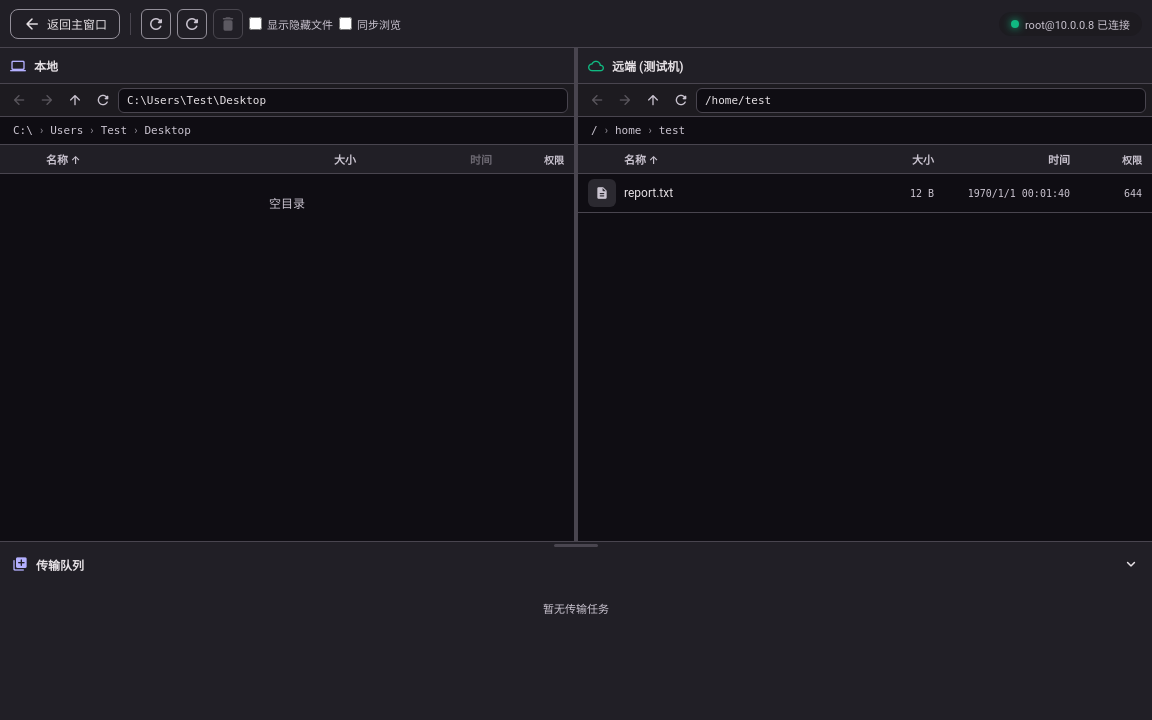
Test: SFTP 删除确认 › 确认前不调用删除，确认后删除完整远端路径
Click the text "report.txt" at {"x": 649, "y": 193}, box x1=624 y1=186 x2=673 y2=200
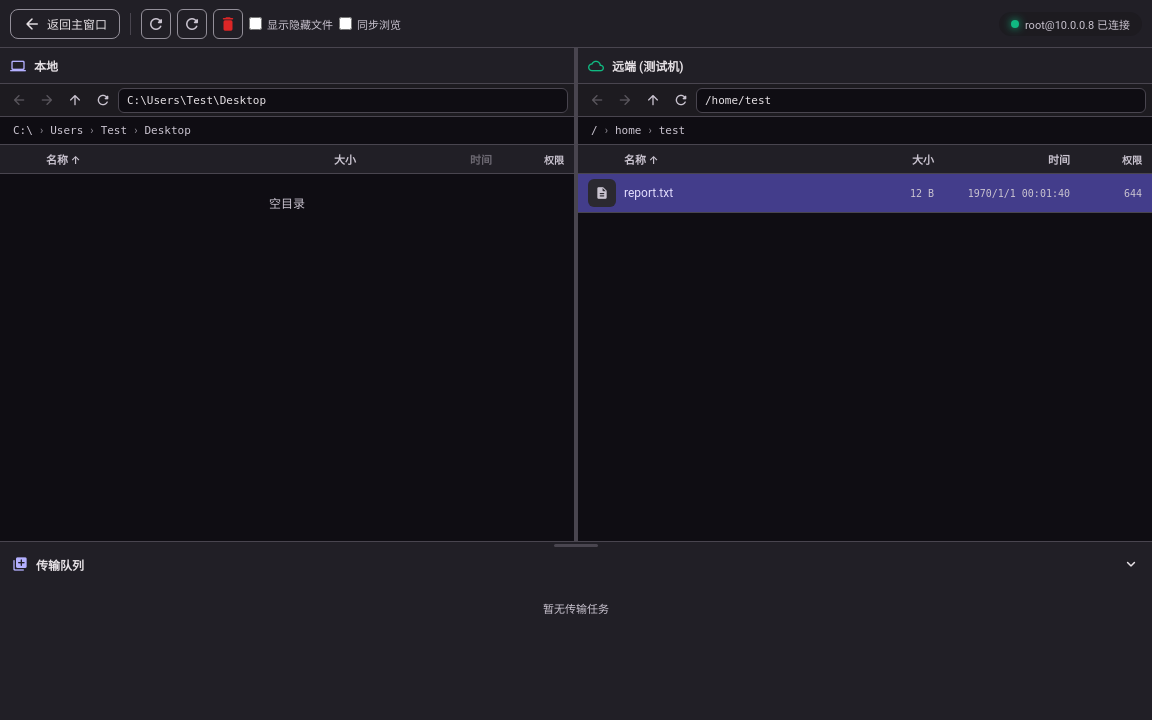
Click the button titled "删除远端: report.txt (Delete)" at {"x": 228, "y": 24}, box x1=213 y1=8 x2=243 y2=38
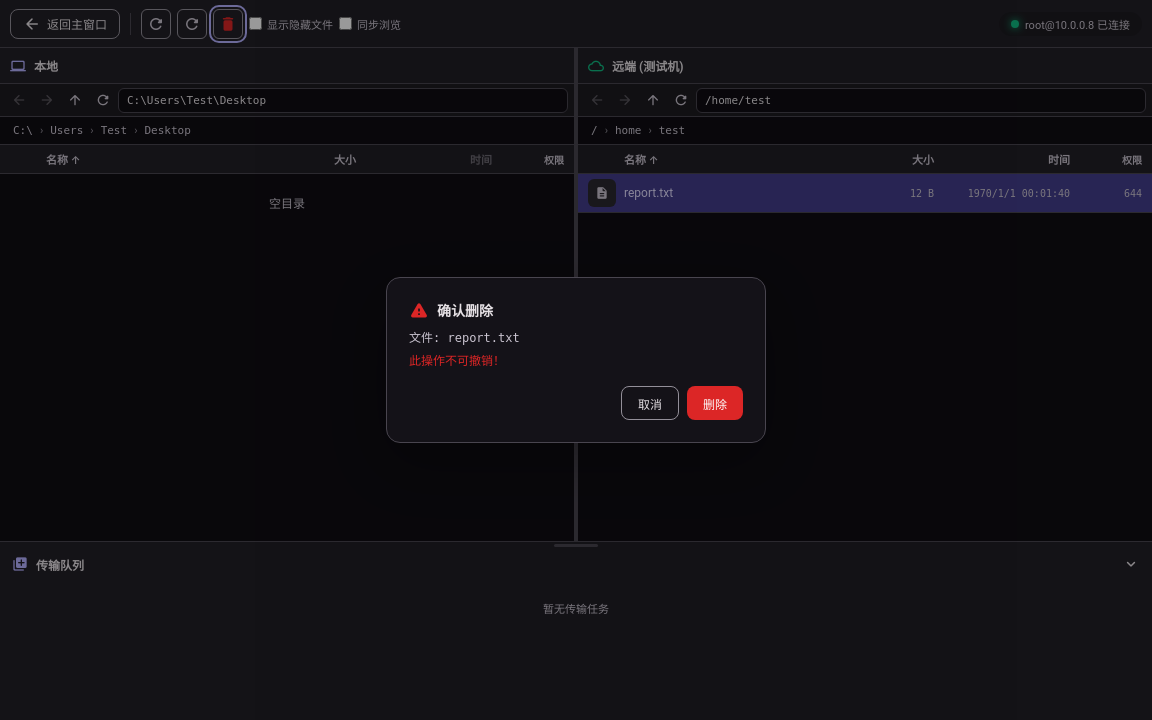
Click the button "删除" at {"x": 715, "y": 403}, box x1=687 y1=386 x2=743 y2=420
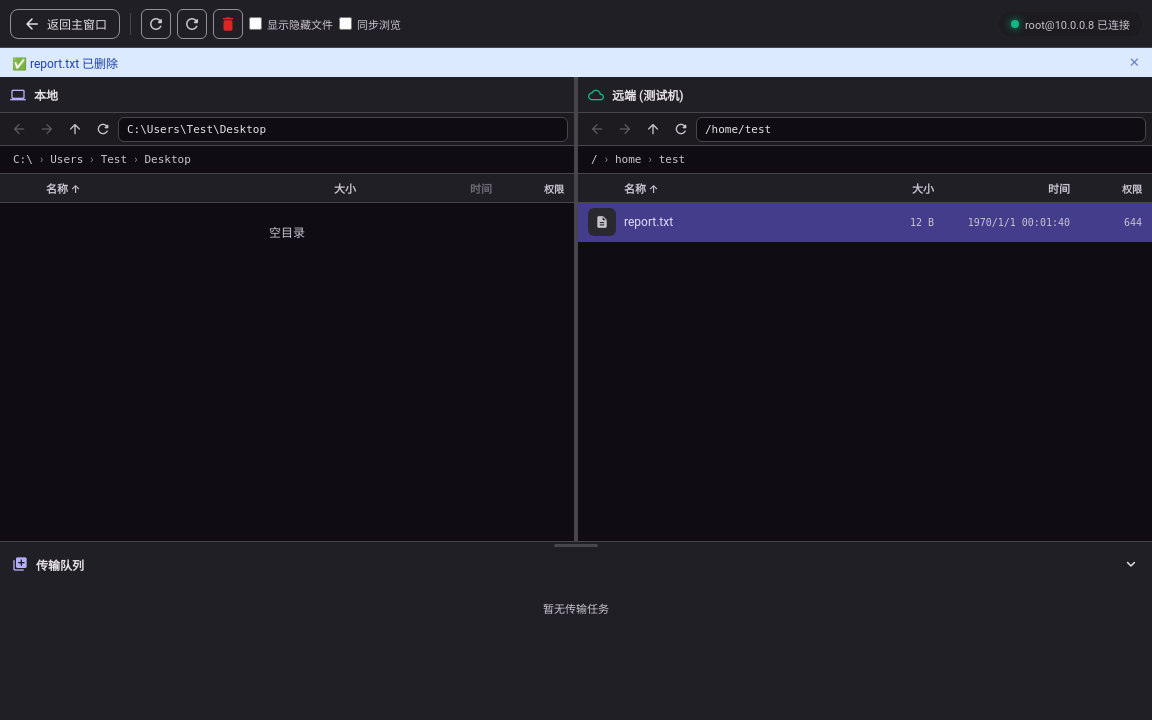
Now the dialog "确认删除" is gone
